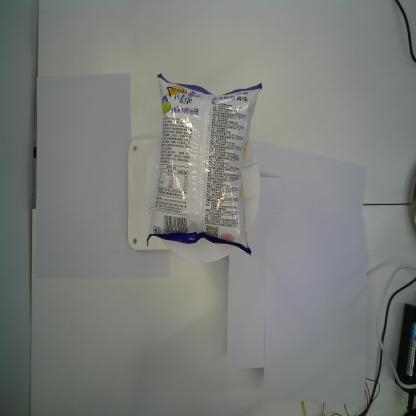Puffed Food: (146, 72, 262, 257)
